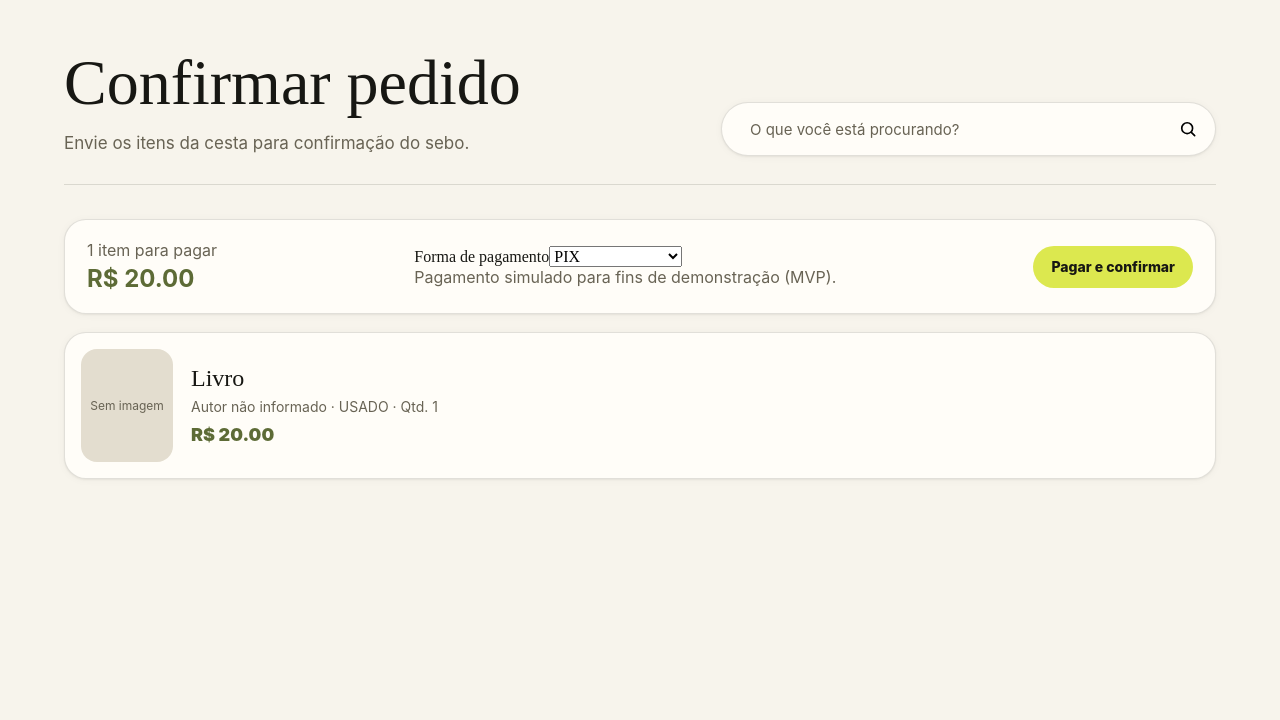
Test case: checkout com perfil incompleto › mantém o sucesso dependente da confirmação do backend quando o perfil está completo
Click the button "Pagar e confirmar".
click(1113, 267)  # box [1034,246,1193,288]
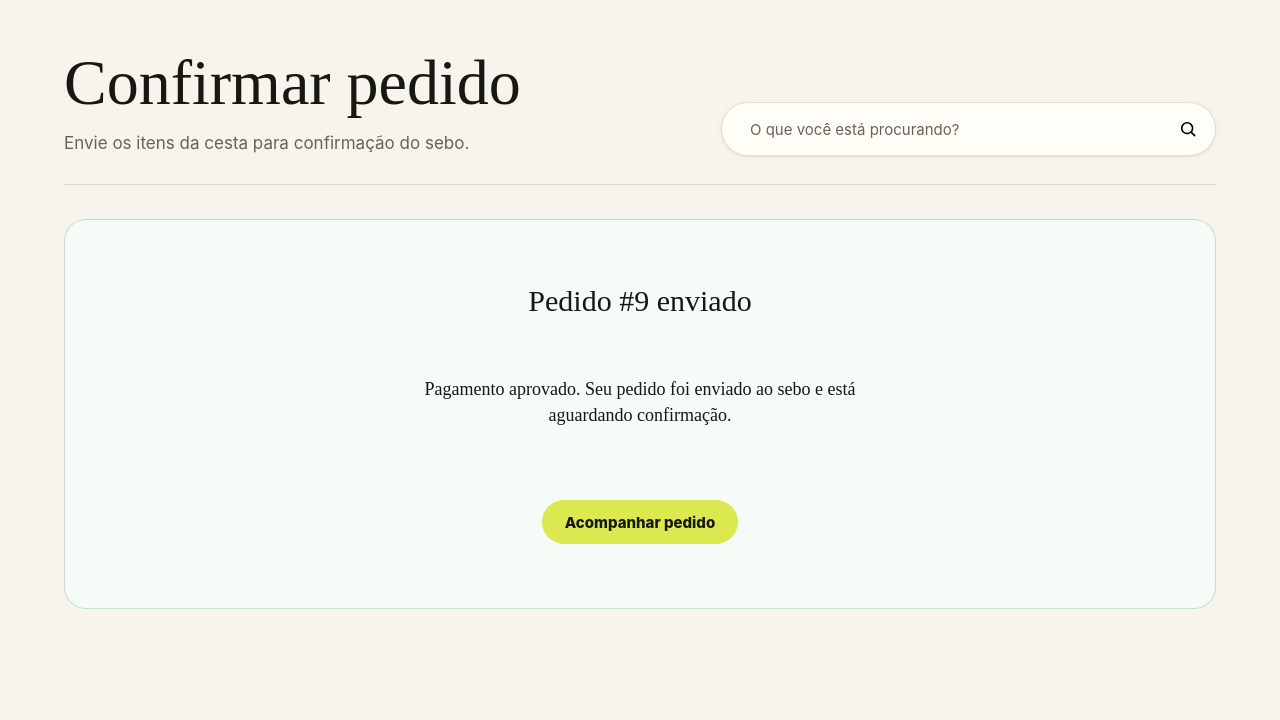
expect the heading "Pedido #9 enviado" is shown: met, box [528,284,752,318]
